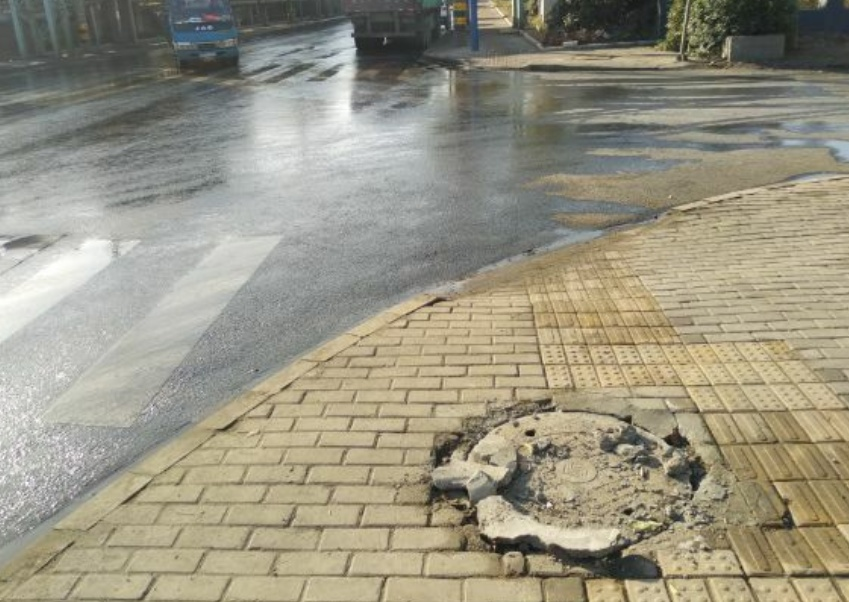well: (462, 406, 719, 559)
